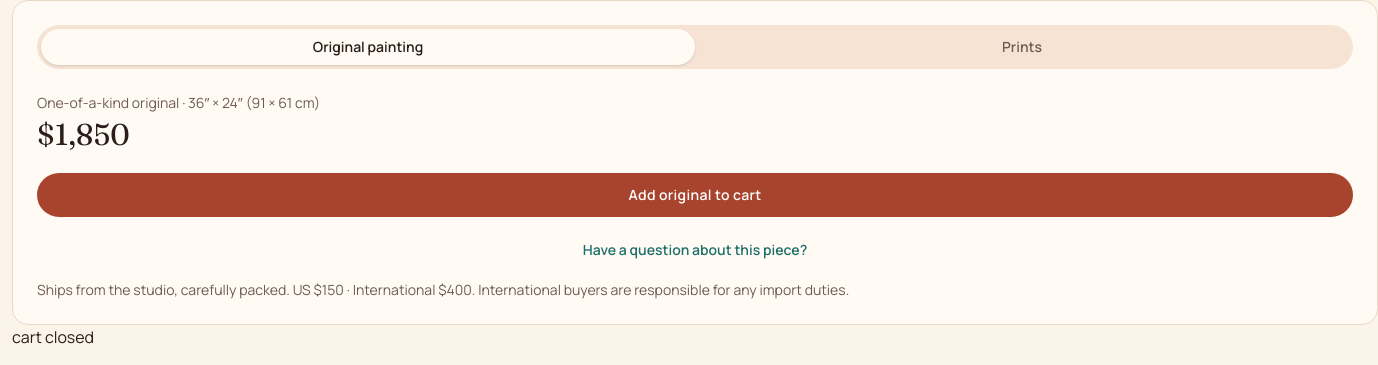
it: PurchasePanel: original painting › adds the original to the cart once and opens the cart
The image size is (1378, 365).
Expected: the text with test id "cart-state" reads "cart closed", [12,326,94,348]
Click the button "Add original to cart": (695, 195) [37,173,1353,217]
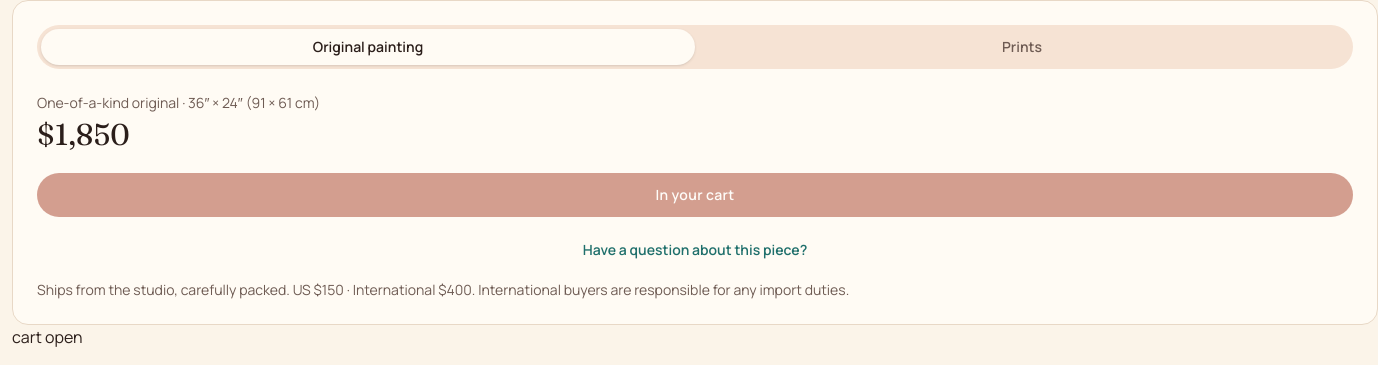
Now the text with test id "cart-state" reads "cart open", box [12,326,83,348]
Now the button "In your cart" is disabled, box [37,173,1353,217]
